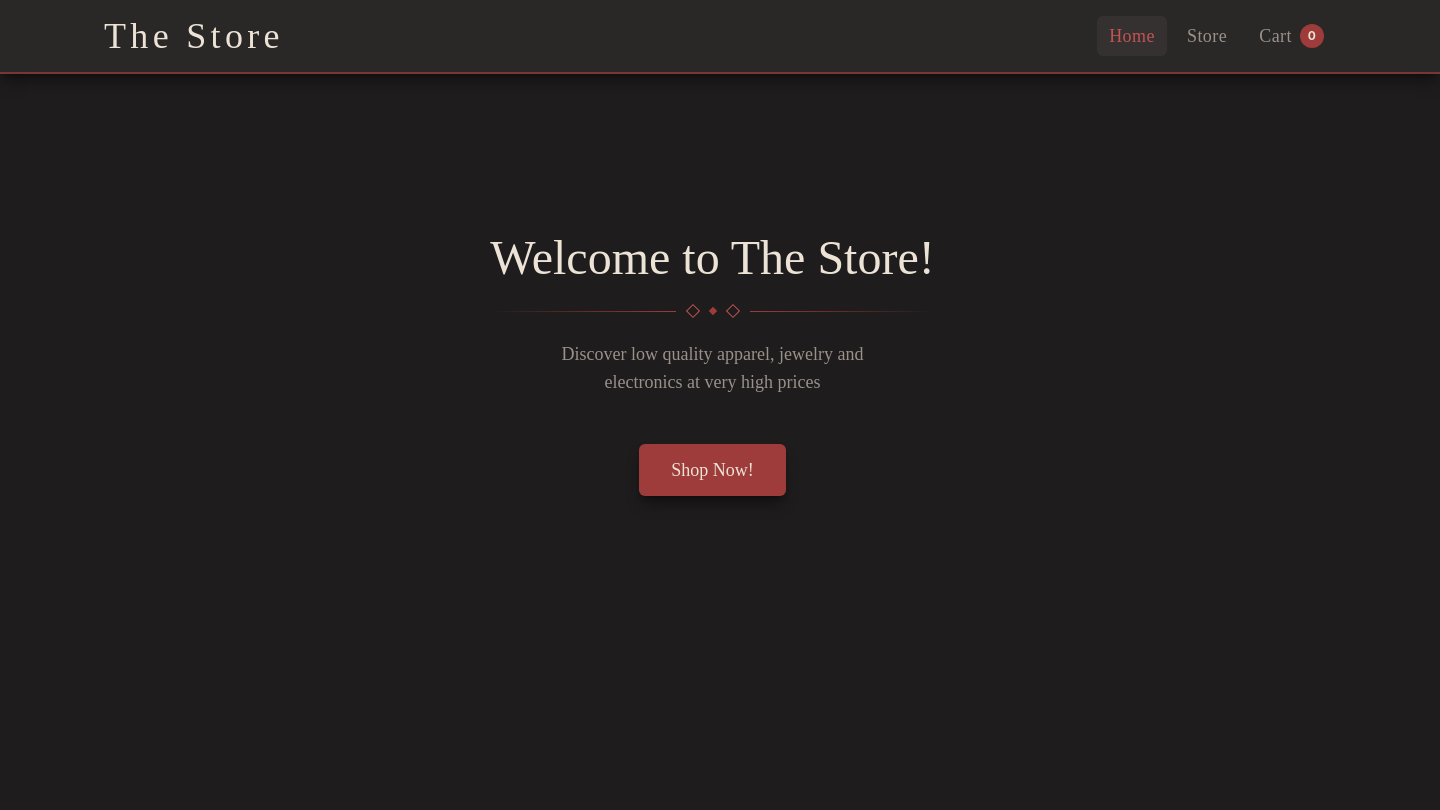
Test: Fetching products › renders fetched products on the shop page
The width and height of the screenshot is (1440, 810).
Click the link "Store".
click(1207, 36)  # box top-left (1187, 26), bottom-right (1227, 46)
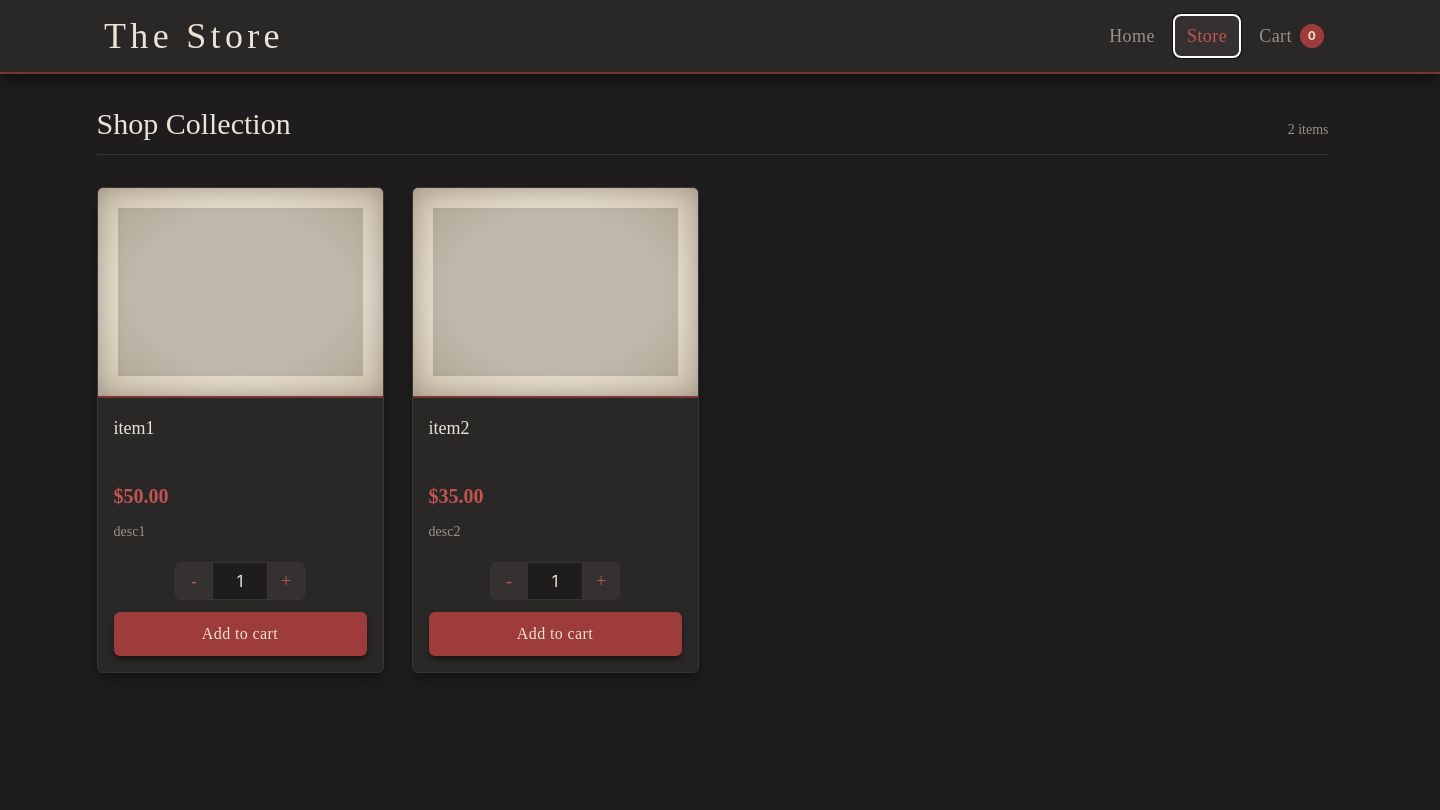
Now the heading "item1" is shown, box top-left (114, 418), bottom-right (154, 438)
Now the heading "item2" is shown, box top-left (428, 418), bottom-right (470, 438)
